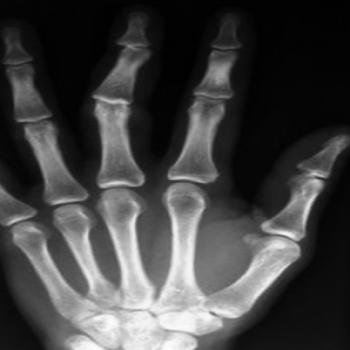Fracture: (113, 38, 154, 55)
